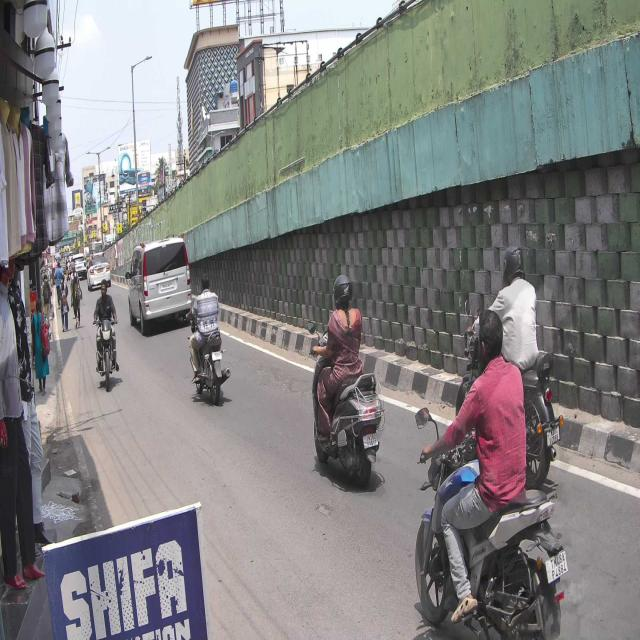single_rider: (413, 308, 565, 640), (306, 276, 386, 488), (184, 270, 232, 407)
